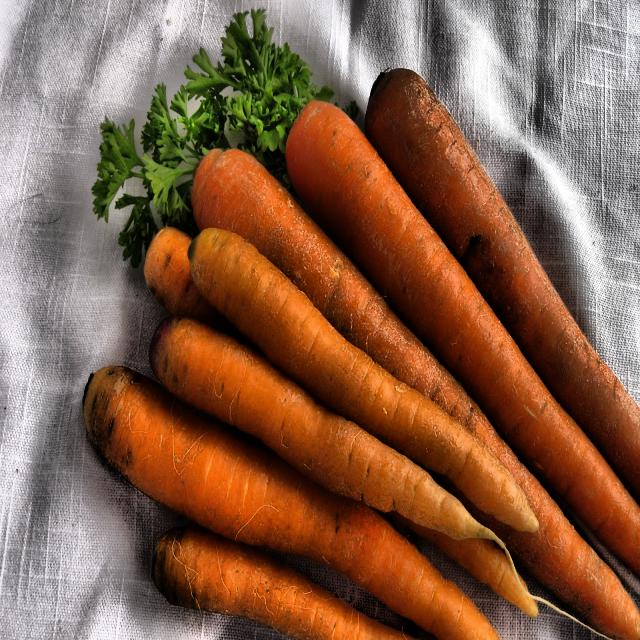carrot: (94, 68, 617, 612)
